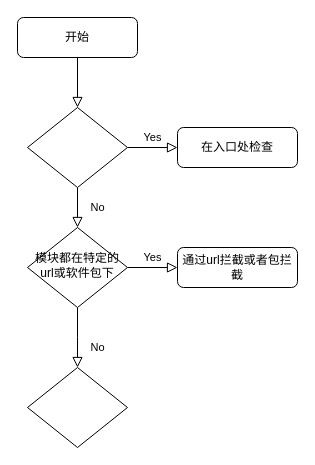
Image size: 315x465. Some labels were removed from this diagram. Each missing label, with the box of its shape:
模块只能通过入口访问: (26, 106, 128, 188)
选几个点进行检查: (26, 366, 128, 448)
